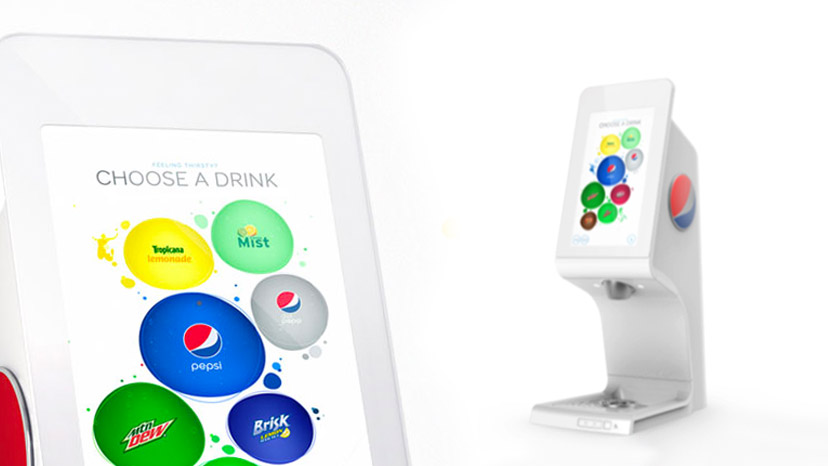pepsi: (668, 171, 694, 230), (668, 176, 694, 230), (183, 321, 221, 357), (276, 289, 303, 312), (608, 162, 618, 172)
